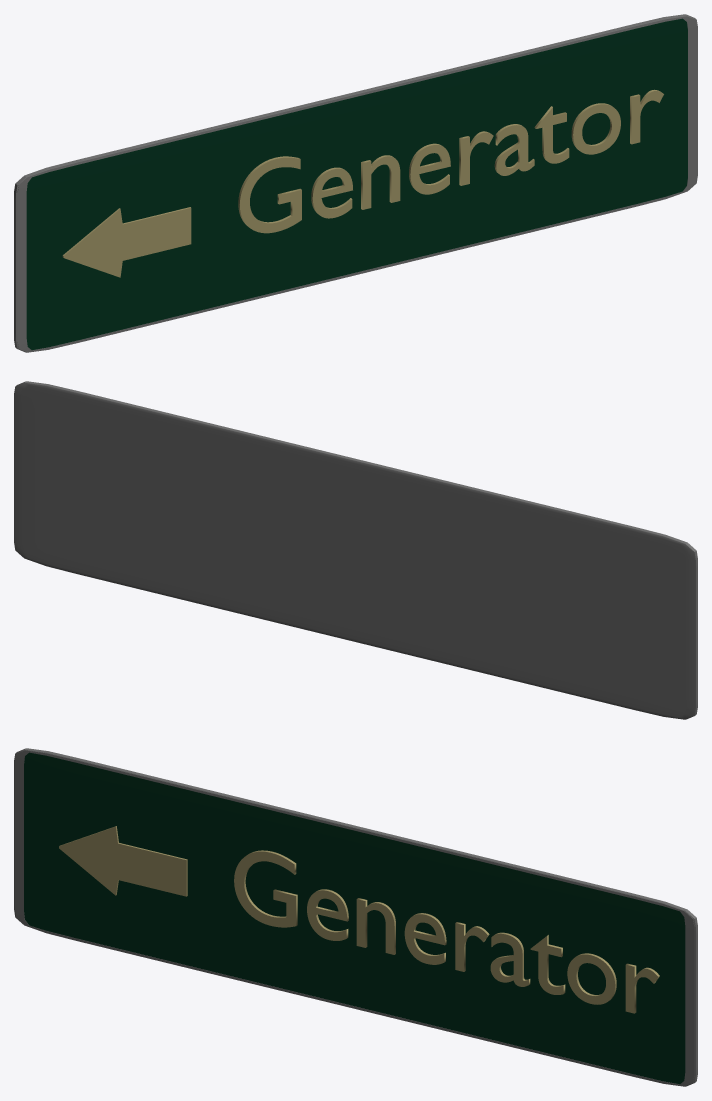
Rendered from generator Signs.fbx.
The picture shows the model from 3 angles, top to bottom: view 1: azimuth 30°, elevation 25°; view 2: azimuth 150°, elevation 25°; view 3: azimuth 330°, elevation 25°; orthographic projection.
Visible parts, largest first — view 1: Cube.001, Text.001, Cube.003; view 2: Cube.001; view 3: Cube.001, Text.001, Cube.003.
Boxes of the visible parts, x1,y1,x2,y2 form: Cube.001: [14, 14, 697, 352]; Text.001: [238, 89, 663, 233]; Cube.003: [62, 207, 191, 277]; Cube.001: [14, 381, 697, 719]; Cube.001: [14, 748, 697, 1086]; Text.001: [234, 850, 659, 1013]; Cube.003: [59, 826, 187, 896].
Size of the model in its own units: 1504 by 382 by 16.02.
